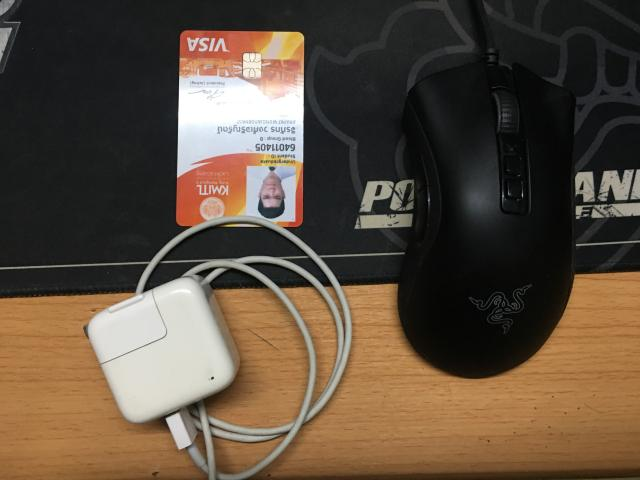Mouse: (398, 0, 575, 378)
wire: (84, 216, 351, 479)
